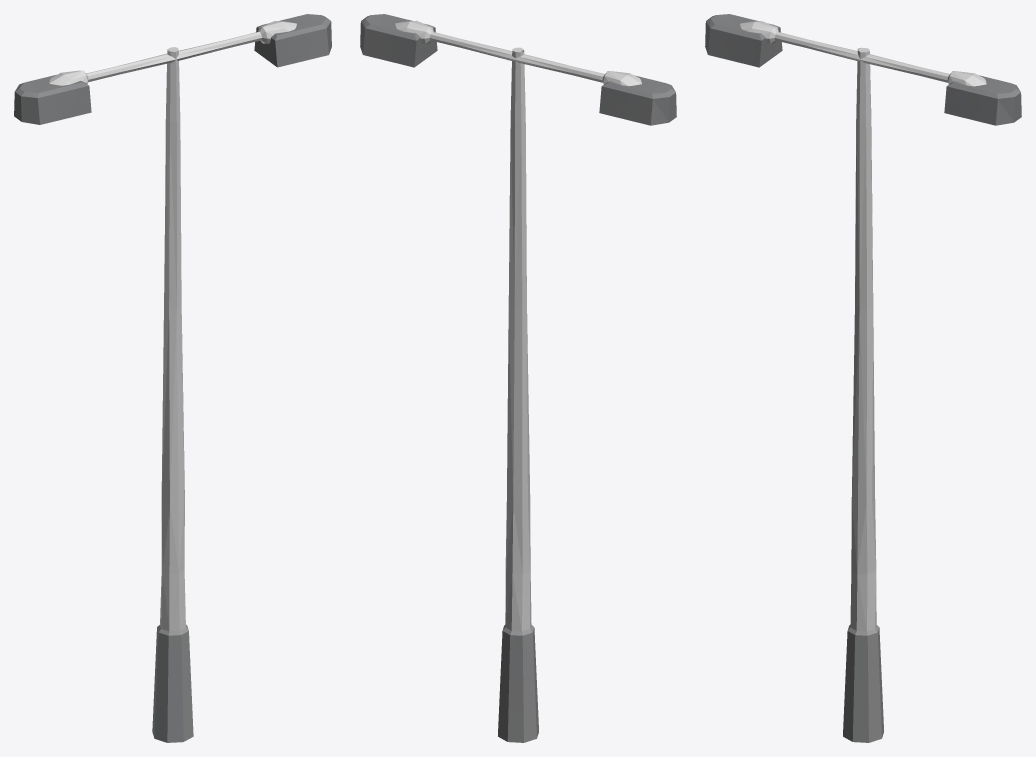
Rendered from lamp_2.dae.
The picture shows the model from 3 angles, left to right: view 1: azimuth 30°, elevation 25°; view 2: azimuth 150°, elevation 25°; view 3: azimuth 330°, elevation 25°; orthographic projection.
Visible parts, largest first — view 1: lamp_2; view 2: lamp_2; view 3: lamp_2.
Part boxes in pixels (left/top/right/bottom): lamp_2: left=14, top=14, right=331, bottom=742; lamp_2: left=360, top=14, right=676, bottom=742; lamp_2: left=705, top=14, right=1021, bottom=742.
Size of the model in its own units: 2.98 by 0.3947 by 6.3.
1 material, 1 textured.
